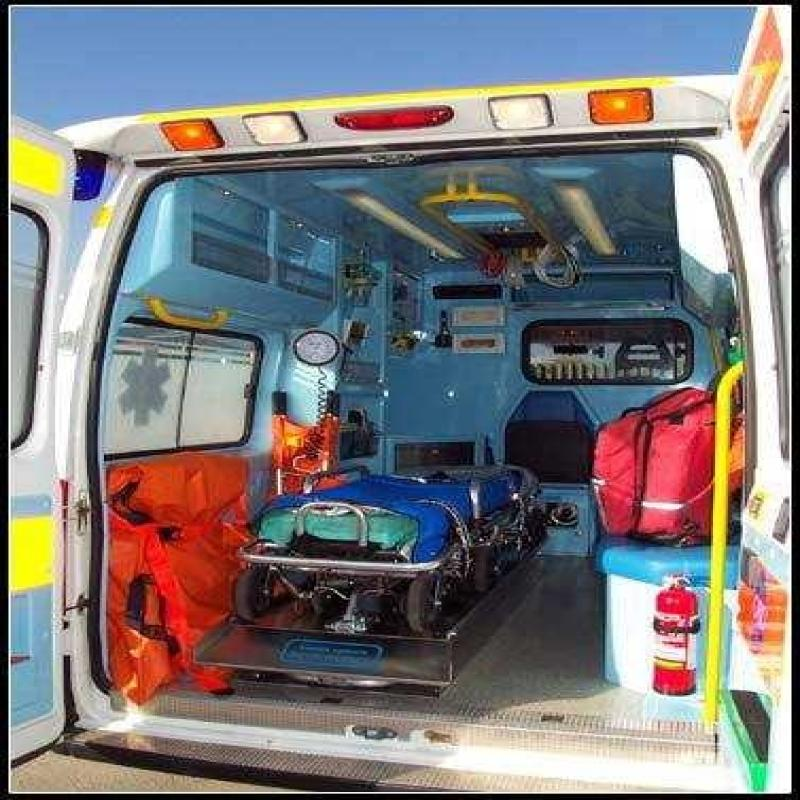AmbulanceSiren: (130, 73, 715, 168)
